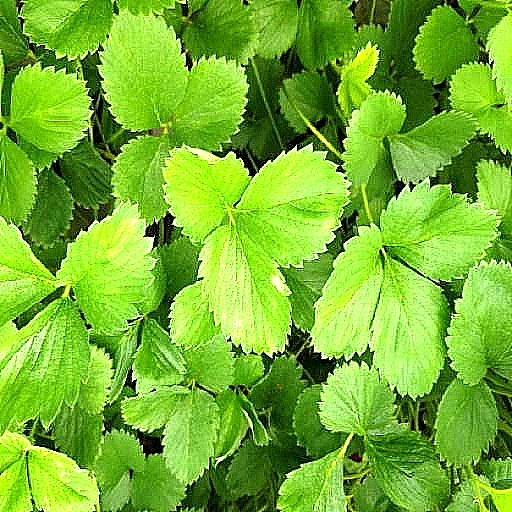Powdery Mildew Leaf: (218, 153, 314, 288), (260, 270, 351, 368)
